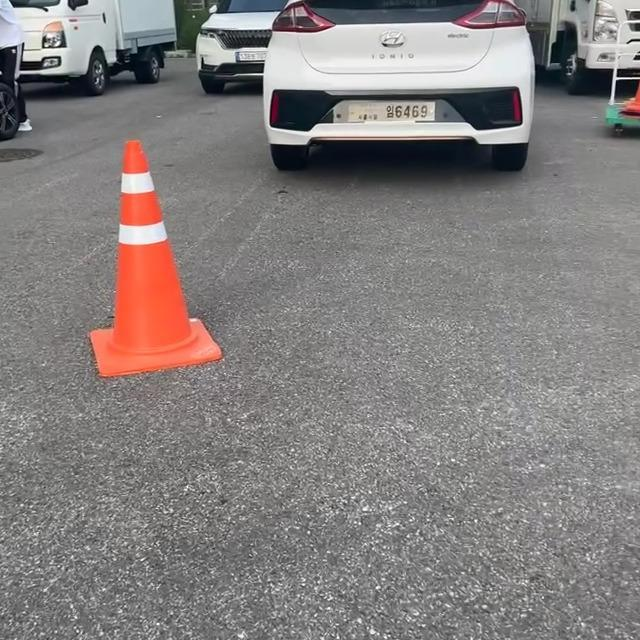fallen_object: (49, 142, 282, 409)
